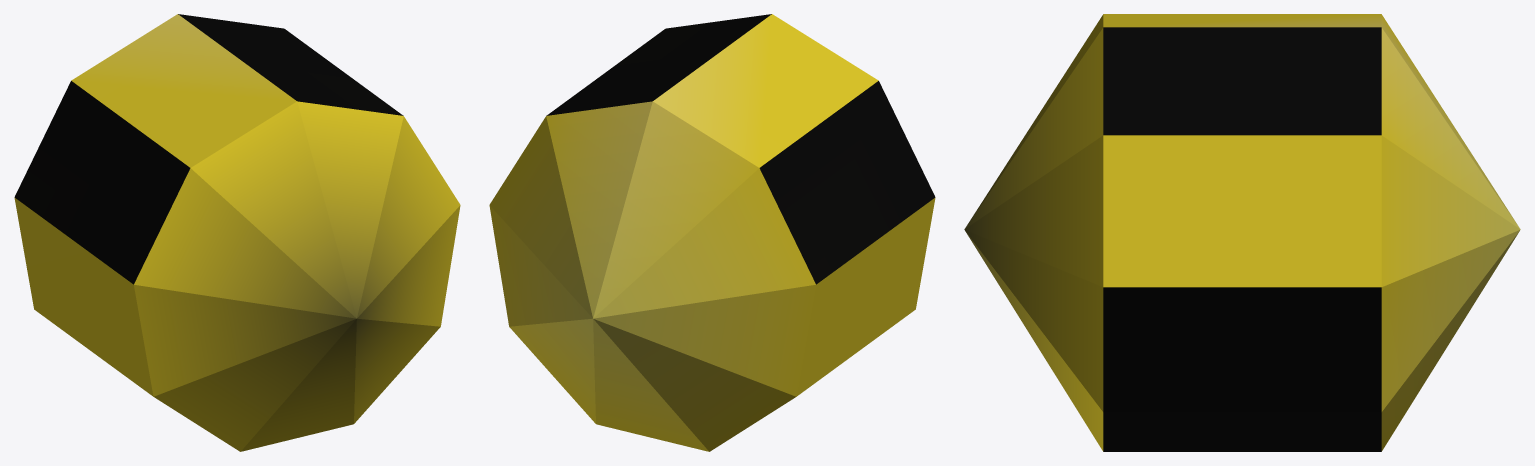
File: bee.fbx
3 views of the same model, side by side, from view 1: azimuth 30°, elevation 25°; view 2: azimuth 150°, elevation 25°; view 3: azimuth 270°, elevation 25° (orthographic). The views are drawn at different scales.
Visible parts, largest first — view 1: Sphere; view 2: Sphere; view 3: Sphere.
Boxes of the visible parts, x1,y1,x2,y2 form: Sphere: (14,14,460,451); Sphere: (489,14,935,451); Sphere: (964,14,1520,451).
Bounding box in the file's own units: 5.81 × 5.72 × 7.36.
